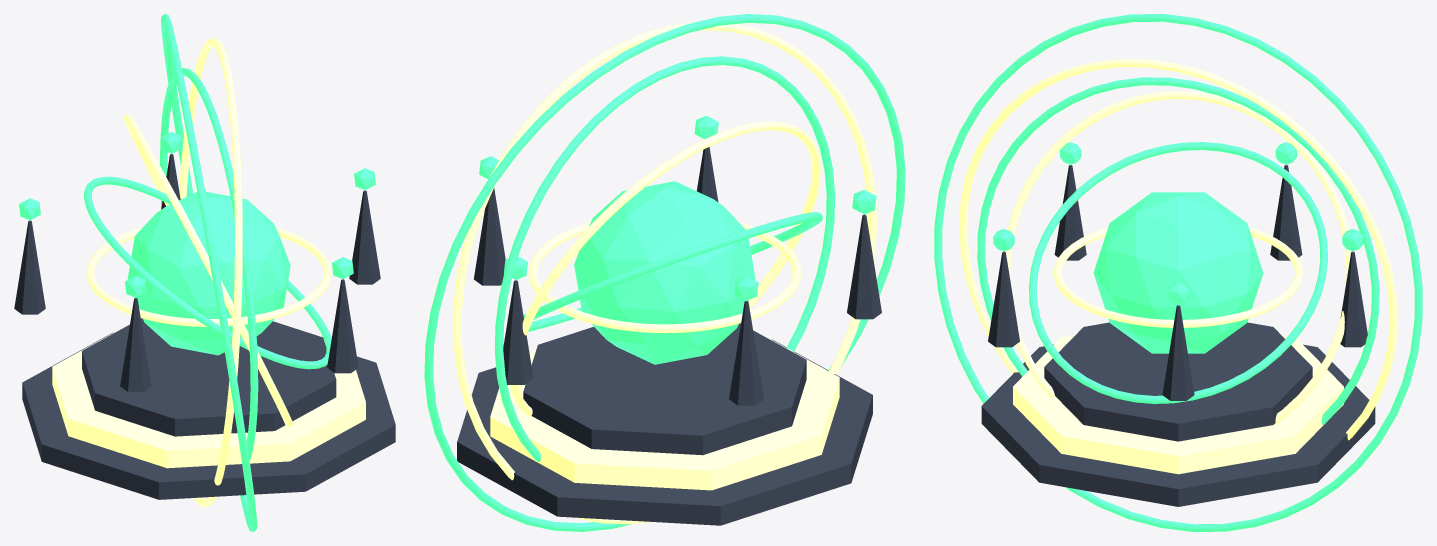
File: gpu-blender-v16.glb
The picture shows the model from 3 angles, left to right: view 1: azimuth 30°, elevation 25°; view 2: azimuth 150°, elevation 25°; view 3: azimuth 270°, elevation 25°; orthographic projection. The views are drawn at different scales.
Visible parts, largest first — view 1: Cylinder.002, Cylinder, SovereignCore_gelato-connector, Cylinder.001, Torus.005, Torus.004, Torus.001, Torus.003, Torus, Torus.002, Cone.004, Cone.002 (+2 smaller); view 2: Cylinder.002, SovereignCore_gelato-connector, Cylinder, Cylinder.001, Torus.005, Torus.003, Torus.004, Torus.002, Torus, Torus.001, Cone.003, Cone.002 (+3 smaller); view 3: SovereignCore_gelato-connector, Cylinder.002, Cylinder, Cylinder.001, Torus.005, Torus.004, Torus.001, Torus.003, Torus.002, Torus, Cone.004, Cone (+3 smaller).
Part boxes in pixels (left/top/right/bottom): Cylinder.002: left=82, top=318, right=336, bottom=436; Cylinder: left=22, top=332, right=395, bottom=499; SovereignCore_gelato-connector: left=127, top=191, right=290, bottom=355; Cylinder.001: left=52, top=325, right=365, bottom=468; Torus.005: left=161, top=14, right=257, bottom=531; Torus.004: left=179, top=38, right=242, bottom=507; Torus.001: left=84, top=176, right=331, bottom=369; Torus.003: left=160, top=68, right=258, bottom=459; Torus: left=86, top=227, right=331, bottom=326; Torus.002: left=124, top=114, right=293, bottom=426; Cone.004: left=327, top=279, right=358, bottom=373; Cone.002: left=14, top=220, right=45, bottom=314; Cylinder.002: left=523, top=323, right=806, bottom=455; SovereignCore_gelato-connector: left=574, top=181, right=755, bottom=364; Cylinder: left=457, top=339, right=872, bottom=525; Cylinder.001: left=490, top=330, right=839, bottom=490; Torus.005: left=424, top=14, right=905, bottom=531; Torus.003: left=494, top=56, right=835, bottom=461; Torus.004: left=453, top=22, right=876, bottom=524; Torus.002: left=510, top=121, right=820, bottom=416; Torus: left=528, top=222, right=801, bottom=333; Torus.001: left=523, top=212, right=822, bottom=331; Cone.003: left=847, top=214, right=881, bottom=319; Cone.002: left=729, top=301, right=763, bottom=405; SovereignCore_gelato-connector: left=1093, top=192, right=1263, bottom=353; Cylinder.002: left=1044, top=322, right=1312, bottom=441; Cylinder: left=981, top=344, right=1375, bottom=506; Cylinder.001: left=1013, top=334, right=1343, bottom=474; Torus.005: left=934, top=14, right=1422, bottom=531; Torus.004: left=959, top=59, right=1397, bottom=440; Torus.001: left=1029, top=142, right=1327, bottom=403; Torus.003: left=977, top=77, right=1379, bottom=424; Torus.002: left=1004, top=91, right=1352, bottom=423; Torus: left=1053, top=227, right=1303, bottom=327; Cone.004: left=988, top=251, right=1019, bottom=347; Cone: left=1162, top=305, right=1194, bottom=400.
Size of the model in its own units: 4.41 by 5.93 by 5.46.
